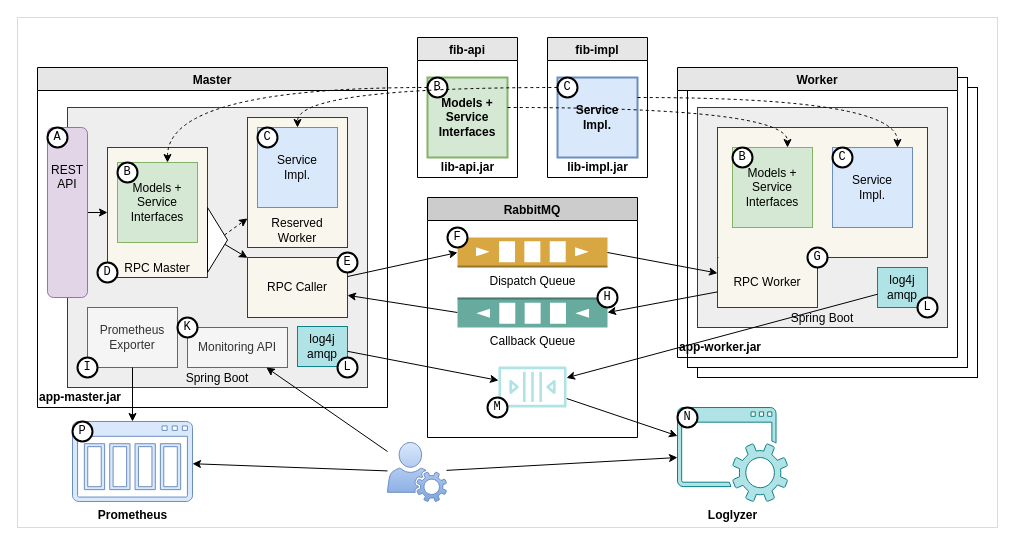
The diagram is 1015 pixels wide and 545 high, and some of its shapes have lost their labels. Here are the shapes that lost their labels. From the top down, the centre of each, then its label:
At (x=532, y=387): "PubSub Queue".
At (x=416, y=472): "SysOps".
